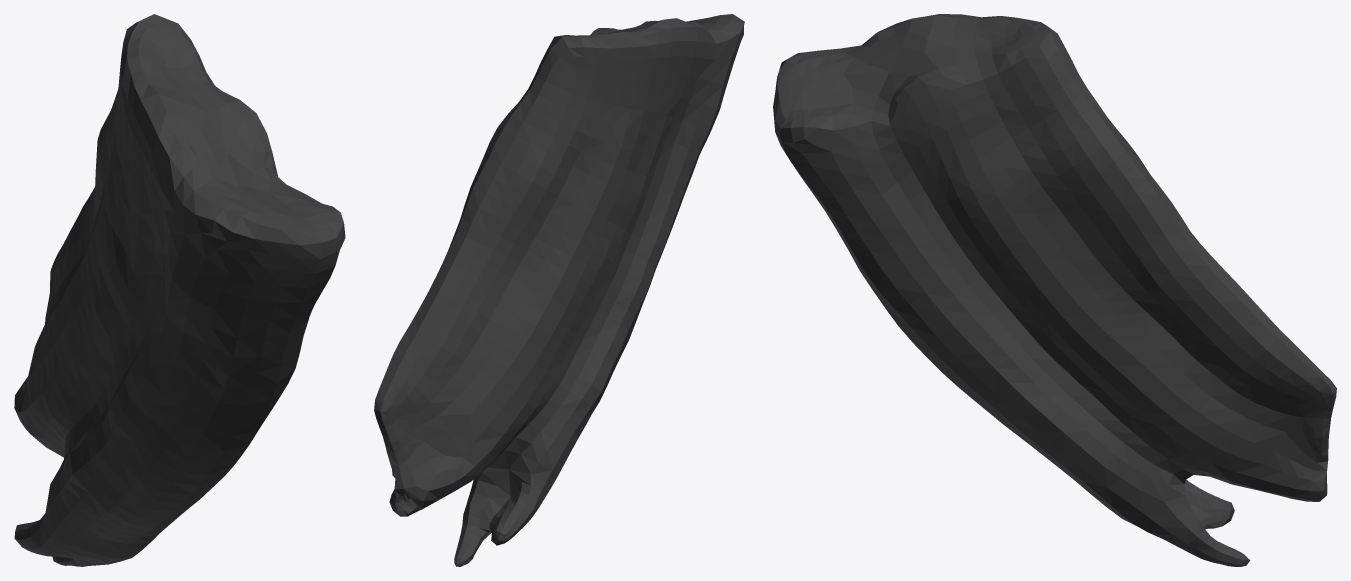
The model's file is L_mand_M3.glb.
3 views of the same model, side by side, from view 1: azimuth 30°, elevation 25°; view 2: azimuth 150°, elevation 25°; view 3: azimuth 270°, elevation 25° (orthographic). The views are drawn at different scales.
Parts seen in each view (by area): view 1: L_mand_M3; view 2: L_mand_M3; view 3: L_mand_M3.
Part boxes in pixels (x1,y1,x2,y2): L_mand_M3: [14, 14, 345, 566]; L_mand_M3: [374, 14, 744, 566]; L_mand_M3: [773, 14, 1336, 566].
Bounding box in the file's own units: 0.0899 × 0.2874 × 0.2789.
1 material, 1 textured.
